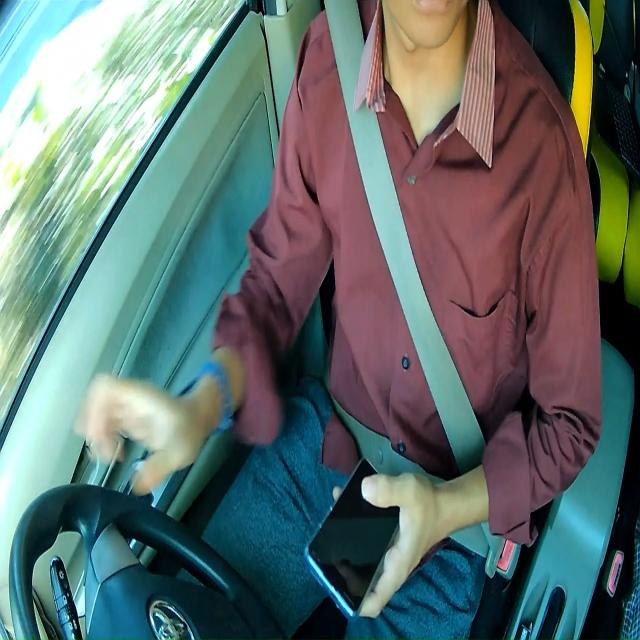phone: (304, 455, 400, 623)
